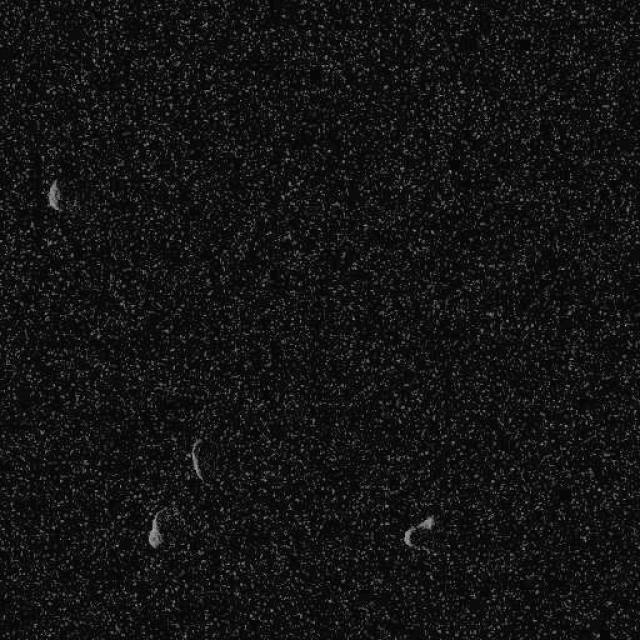D2: (403, 514, 435, 548), (146, 508, 166, 548), (188, 439, 204, 481), (45, 178, 63, 212)
